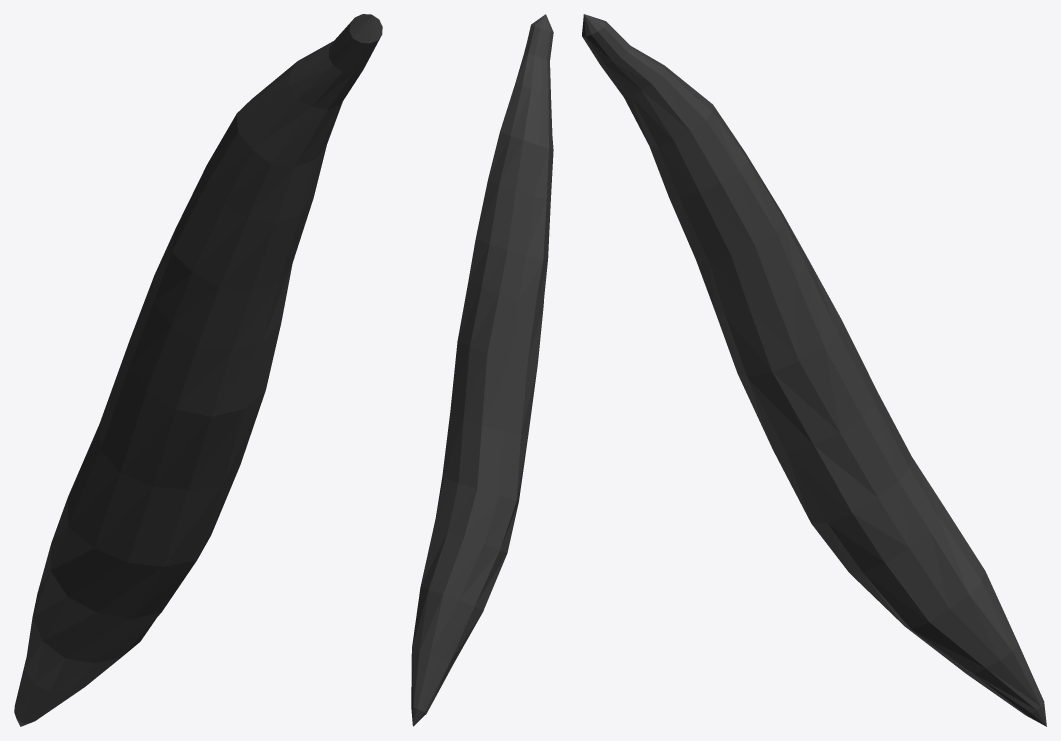
The model's file is PeroneusBrevis.glb.
The picture shows the model from 3 angles, left to right: view 1: azimuth 30°, elevation 25°; view 2: azimuth 150°, elevation 25°; view 3: azimuth 270°, elevation 25°; orthographic projection. The views are drawn at different scales.
Visible parts, largest first — view 1: PeroneusBrevis; view 2: PeroneusBrevis; view 3: PeroneusBrevis.
Boxes of the visible parts, box(x1,y1,x2,y2) form: PeroneusBrevis: box(14, 14, 382, 726); PeroneusBrevis: box(411, 14, 553, 726); PeroneusBrevis: box(582, 14, 1046, 726).
Bounding box in the file's own units: 0.4834 × 2.89 × 1.64.
Materials: 1 (1 with a texture image).
